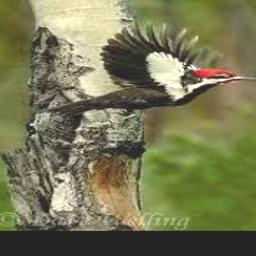Woodpecker: (39, 22, 256, 119)
